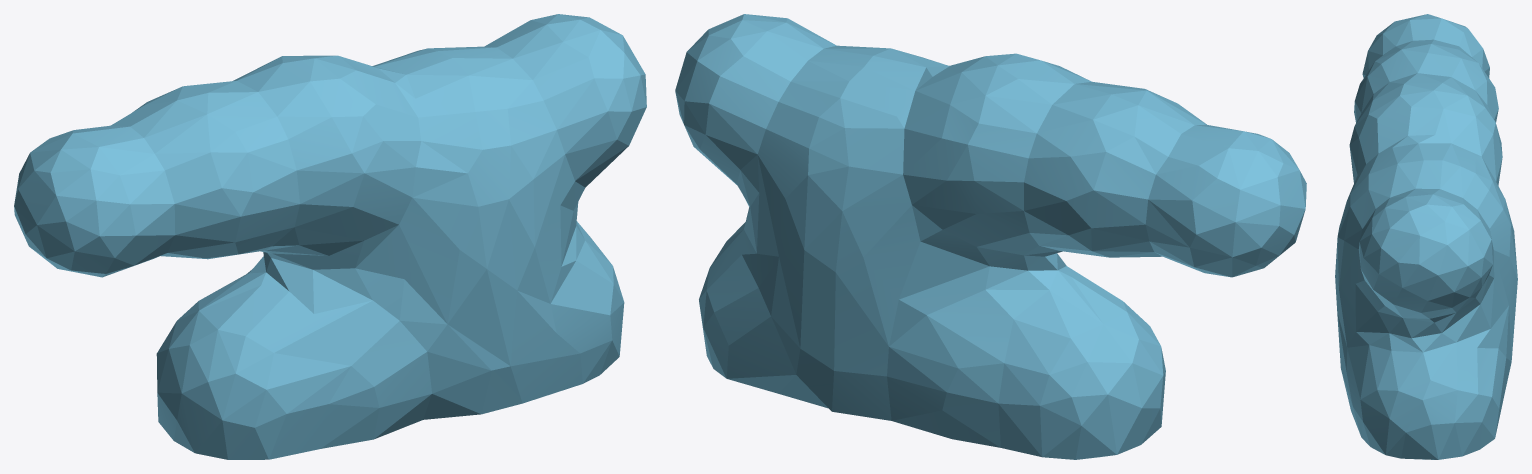
File: small_cloud_29.fbx
The picture shows the model from 3 angles, left to right: view 1: azimuth 30°, elevation 25°; view 2: azimuth 150°, elevation 25°; view 3: azimuth 270°, elevation 25°; orthographic projection. The views are drawn at different scales.
Visible parts, largest first — view 1: cloud_39; view 2: cloud_39; view 3: cloud_39.
Boxes of the visible parts, box(x1,y1,x2,y2) form: cloud_39: box(14, 14, 646, 459); cloud_39: box(675, 14, 1306, 459); cloud_39: box(1335, 14, 1517, 459).
Size of the model in its own units: 560 by 314 by 190.
